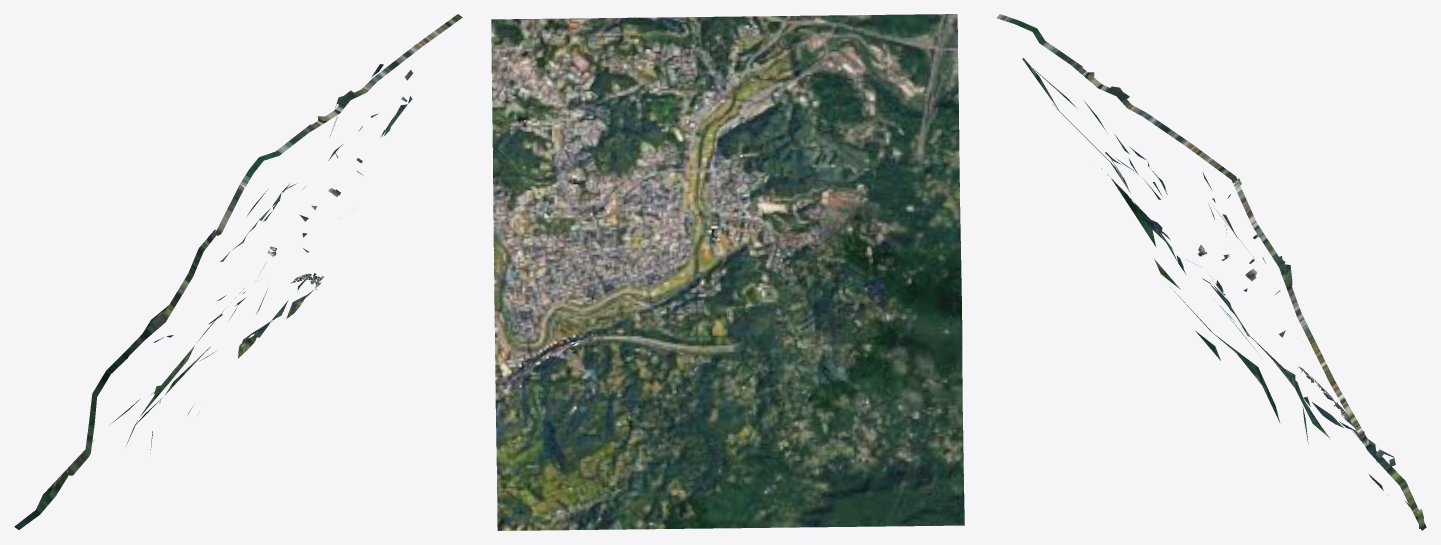
3 views of the same model, side by side, from view 1: azimuth 30°, elevation 25°; view 2: azimuth 150°, elevation 25°; view 3: azimuth 270°, elevation 25° (orthographic). The views are drawn at different scales.
Size of the model in its own units: 5120 by 4452 by 4250.
1 material, 1 textured.
